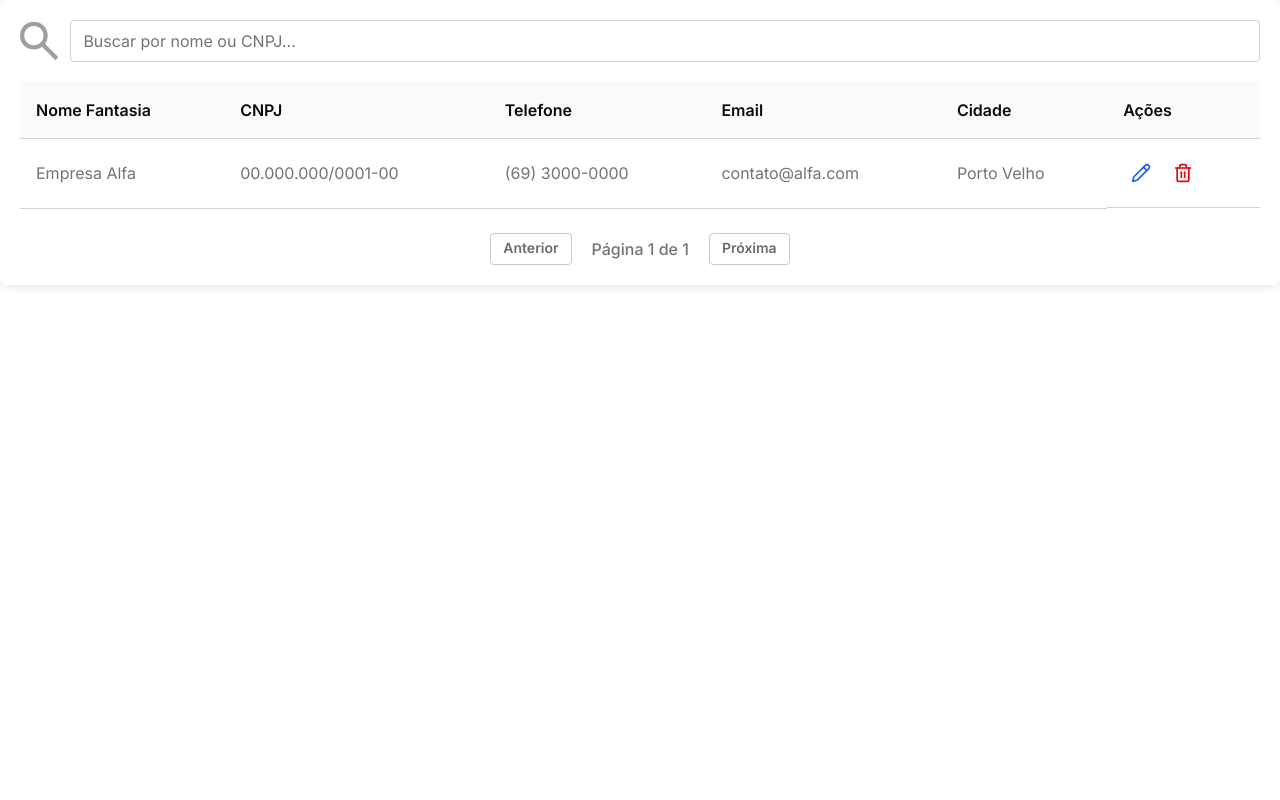
TabelaRegistros › exclusão › fecha com Escape e restaura o foco ao acionador
Expected: the table is shown, x1=20 y1=82 x2=1260 y2=208
Click the button named "Excluir Empresa Alfa" at (1183, 173), box x1=1165 y1=155 x2=1201 y2=191
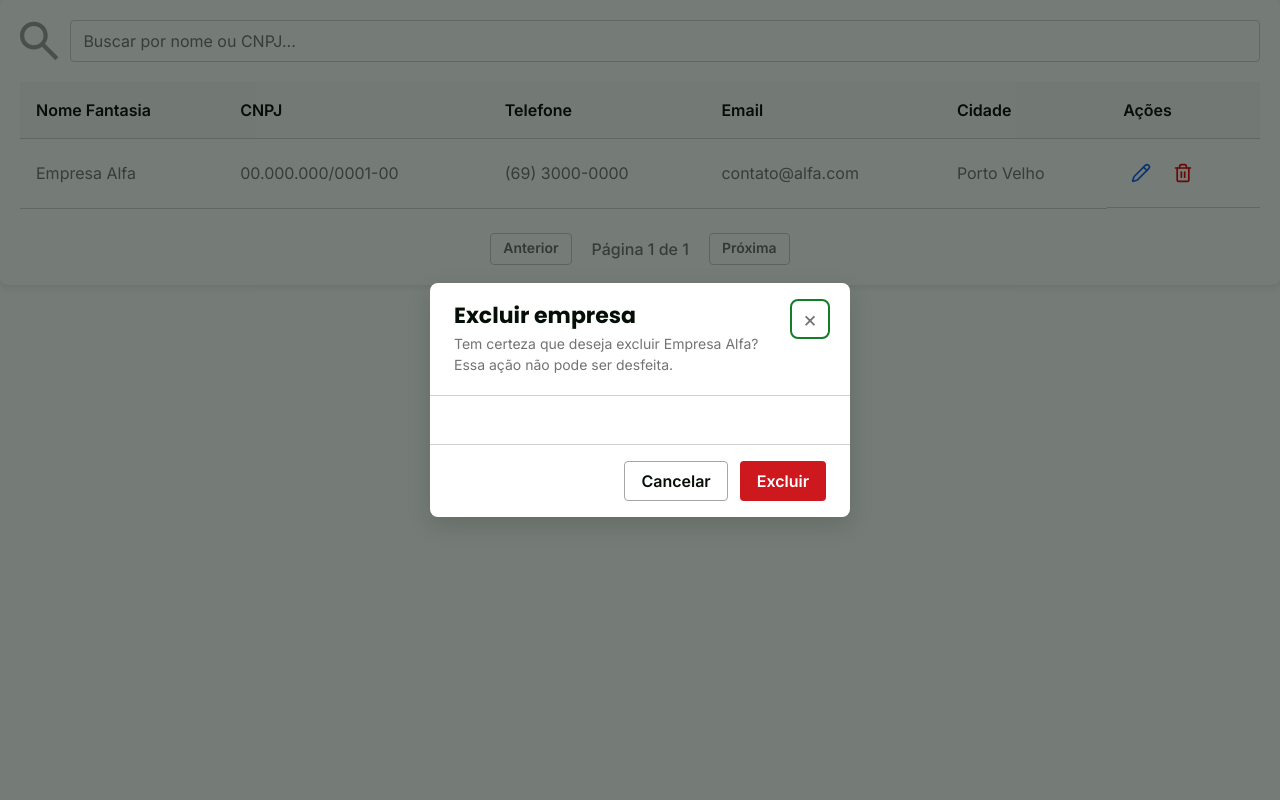
Press Escape
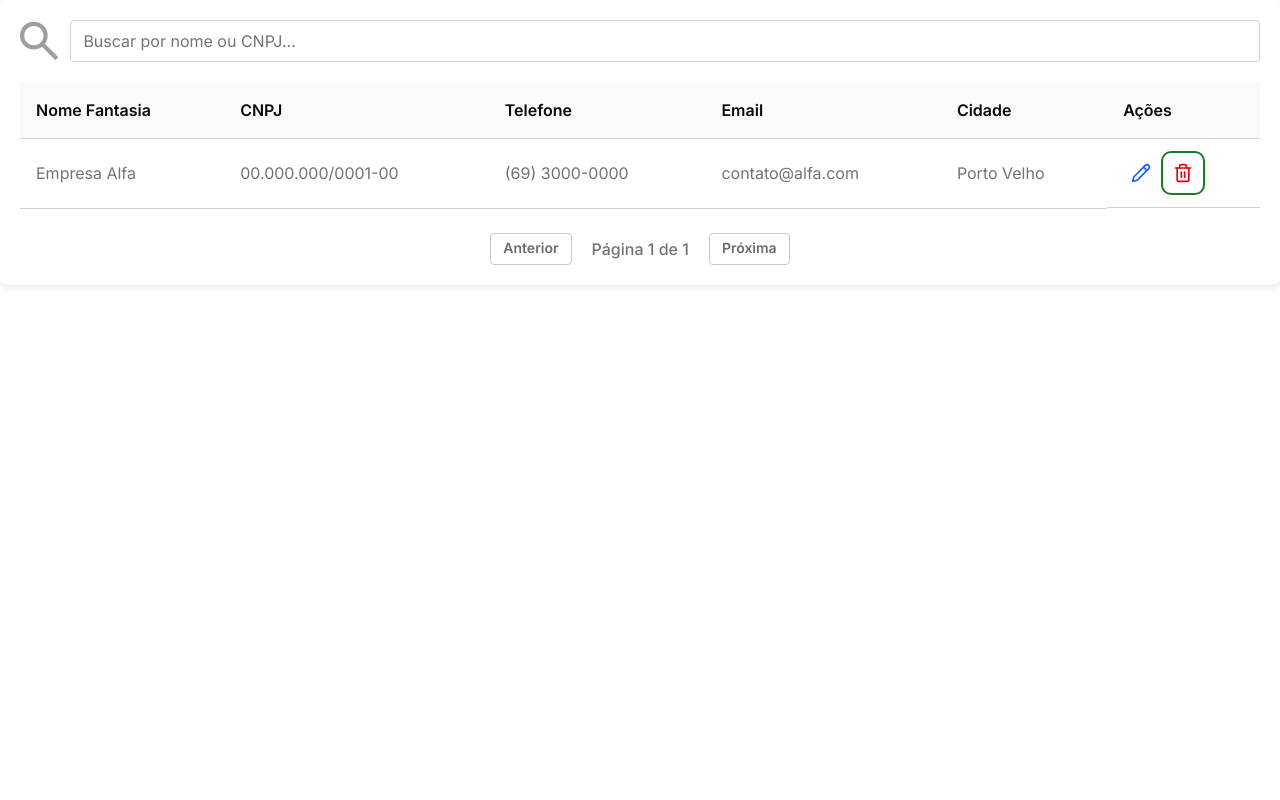
Now the dialog is gone
